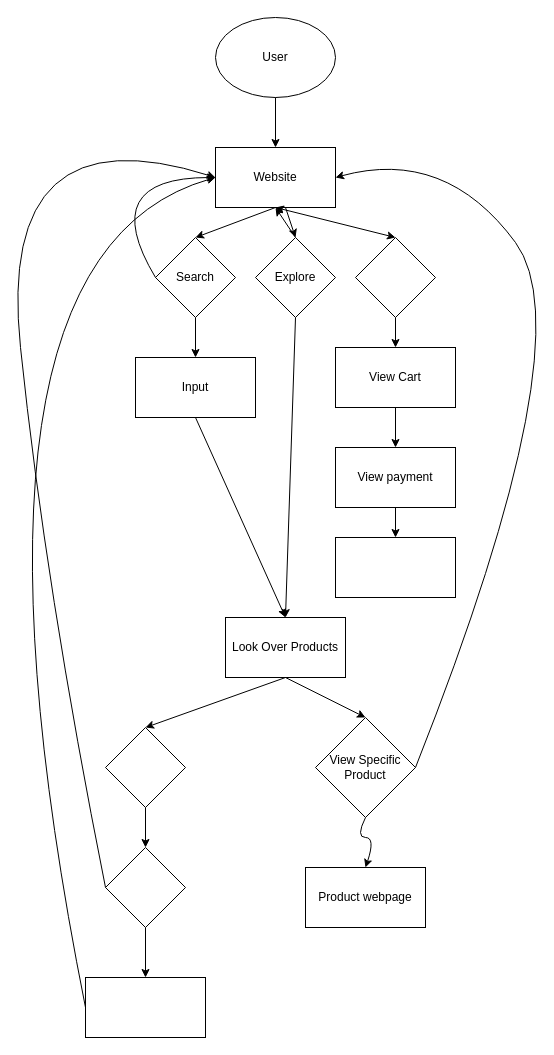
This 554x1055 diagram has some shape labels left out. Each missing label, with the centre of its shape:
"Add to Cart" belongs at (145,767).
"Added" belongs at (145,1007).
"Checkout" belongs at (395,277).
"Confirm" belongs at (145,887).
"Order Confirmation & email" belongs at (395,567).
